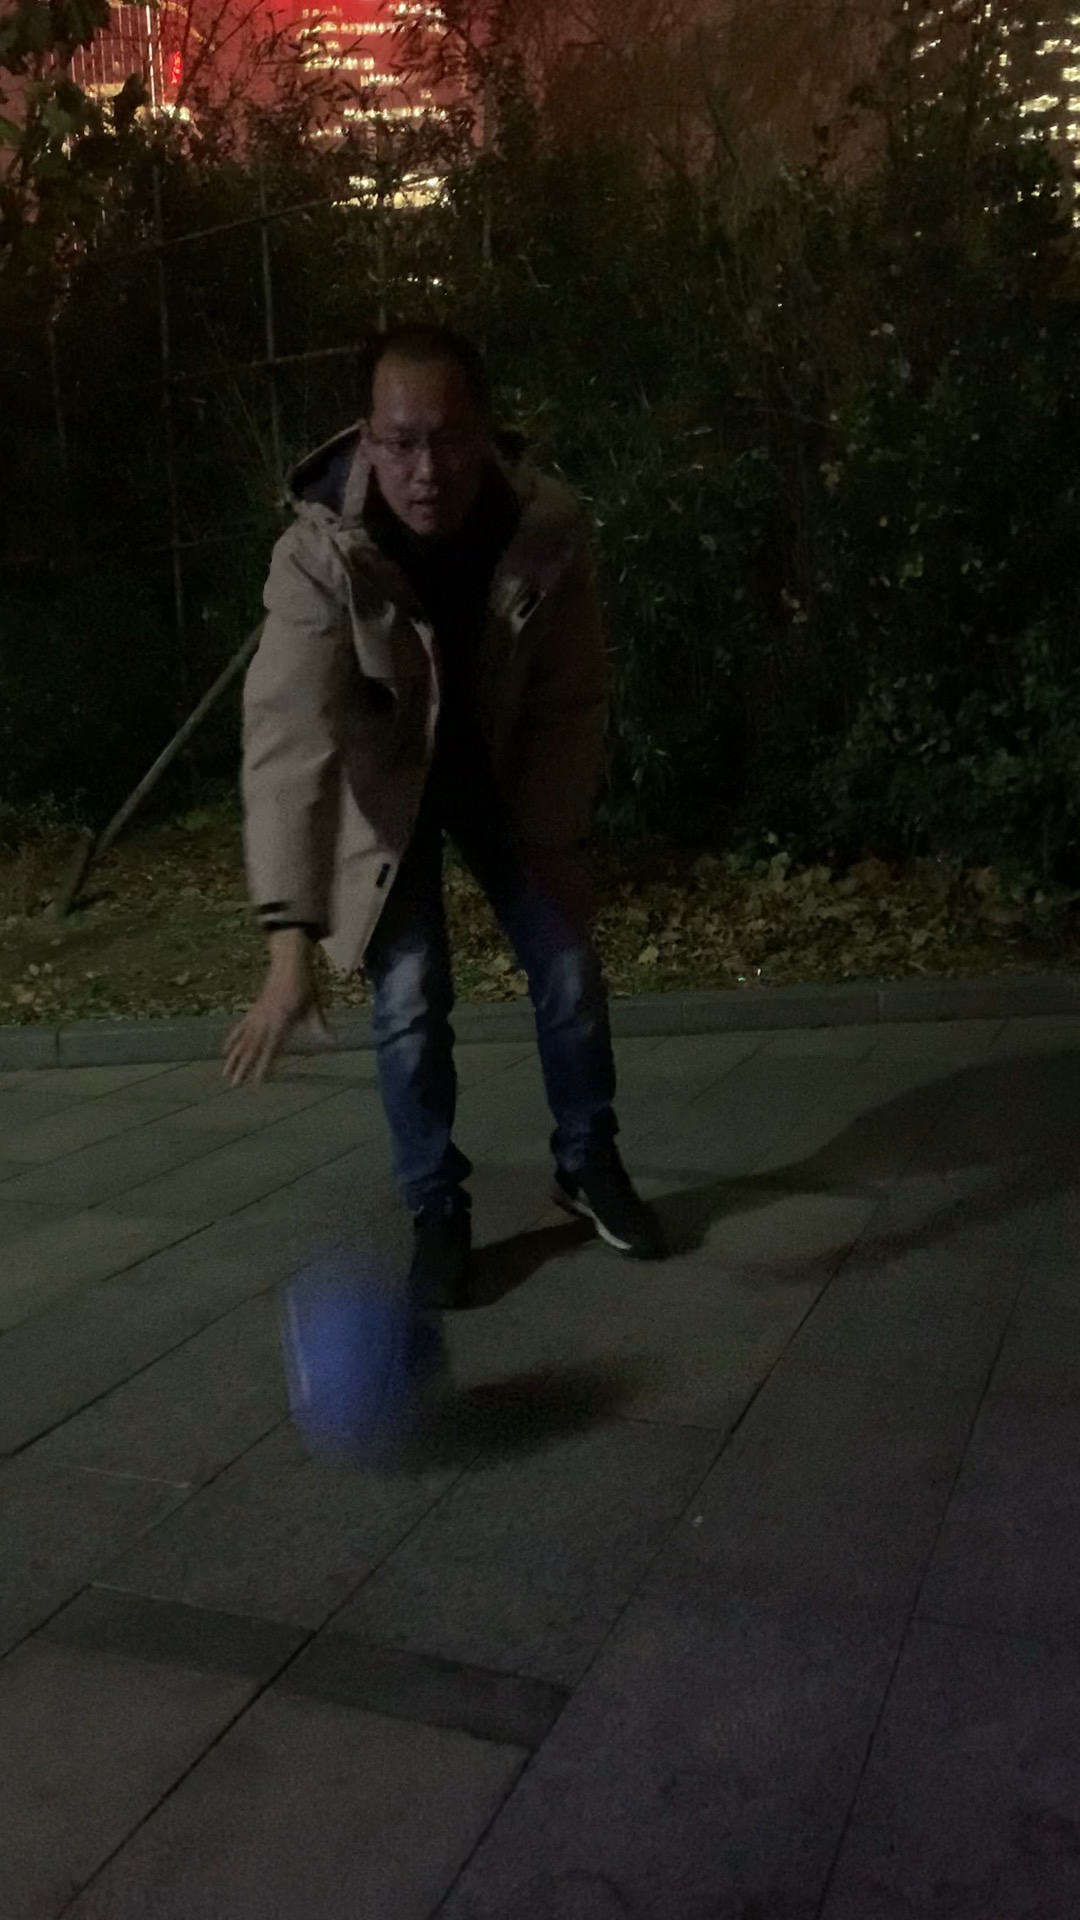ball: (276, 1282, 467, 1470)
